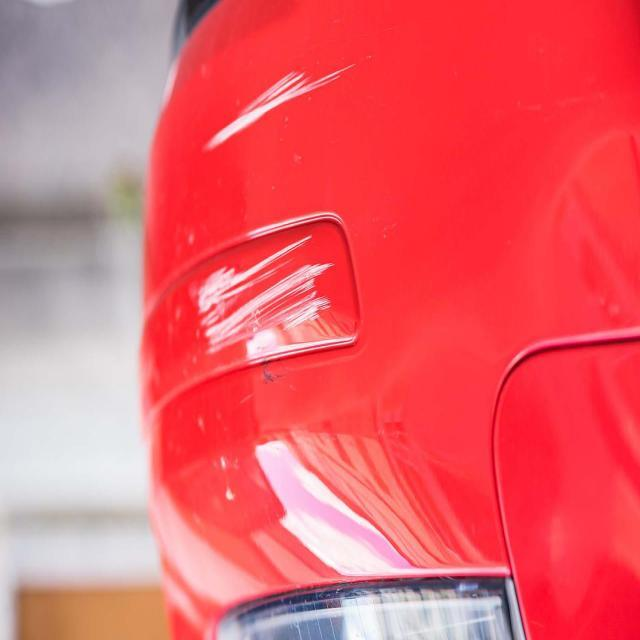scratch: (190, 219, 332, 387), (194, 39, 355, 178)
